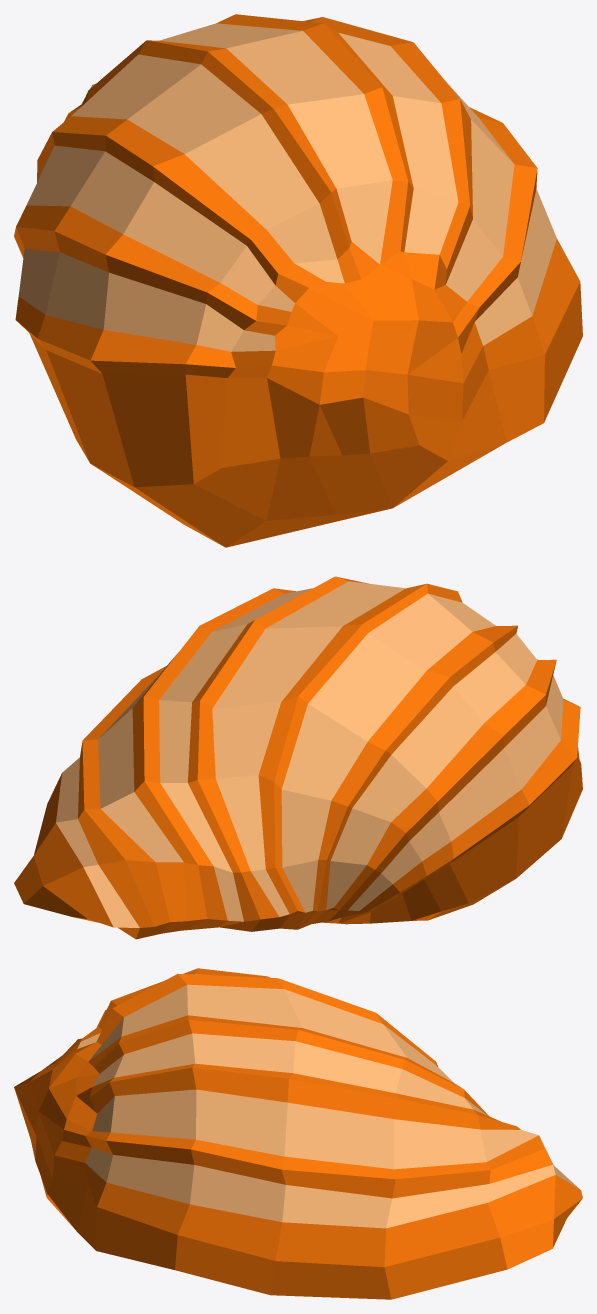
File: Coral_10.fbx
The picture shows the model from 3 angles, top to bottom: view 1: azimuth 30°, elevation 25°; view 2: azimuth 150°, elevation 25°; view 3: azimuth 270°, elevation 25°; orthographic projection. The views are drawn at different scales.
Visible parts, largest first — view 1: Coral_10; view 2: Coral_10; view 3: Coral_10.
Part boxes in pixels (x1=…): Coral_10: x1=14, y1=14, x2=582, y2=547; Coral_10: x1=14, y1=576, x2=582, y2=939; Coral_10: x1=14, y1=968, x2=582, y2=1299.
Size of the model in its own units: 29.15 by 20.68 by 39.59.
